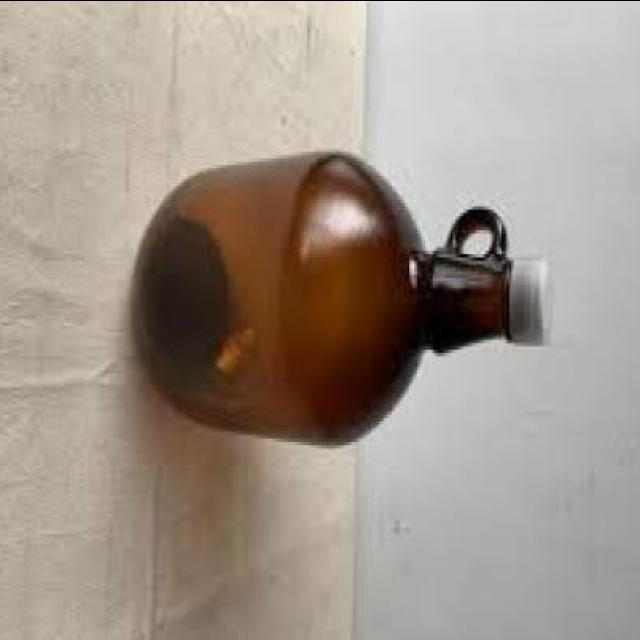kaca: (134, 154, 512, 448)
